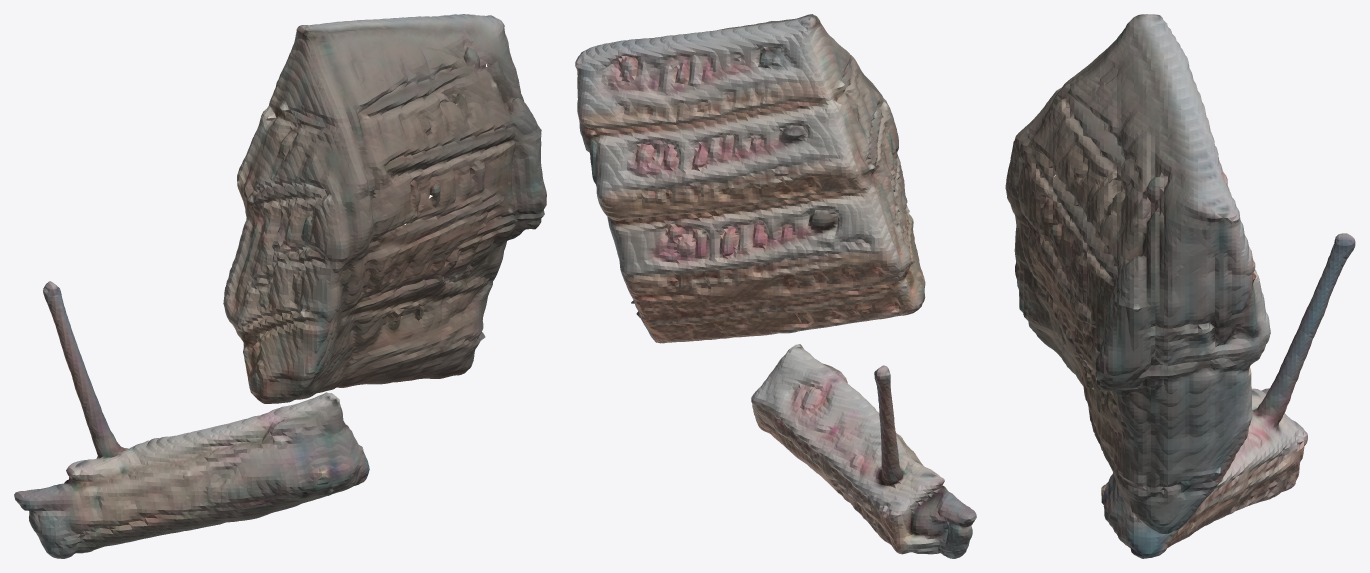
Rendered from padmini-incenso-dhoop.glb.
3 renders of one model, left to right at view 1: azimuth 30°, elevation 25°; view 2: azimuth 150°, elevation 25°; view 3: azimuth 270°, elevation 25°, orthographic. The views are drawn at different scales.
Parts seen in each view (by area): view 1: geometry_0; view 2: geometry_0; view 3: geometry_0.
Boxes of the visible parts, x1,y1,x2,y2 form: geometry_0: (14, 14, 546, 558); geometry_0: (575, 14, 976, 558); geometry_0: (1005, 14, 1355, 558).
Bounding box in the file's own units: 0.9519 × 1.01 × 0.5603.
